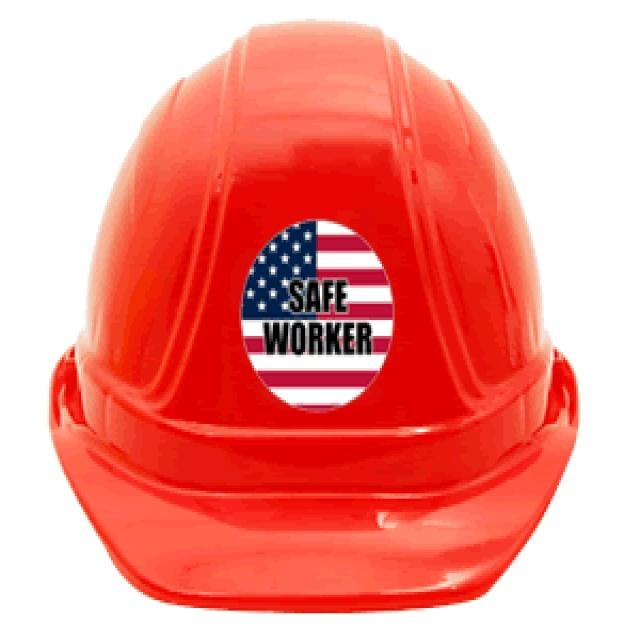helmet: (45, 11, 585, 640)
